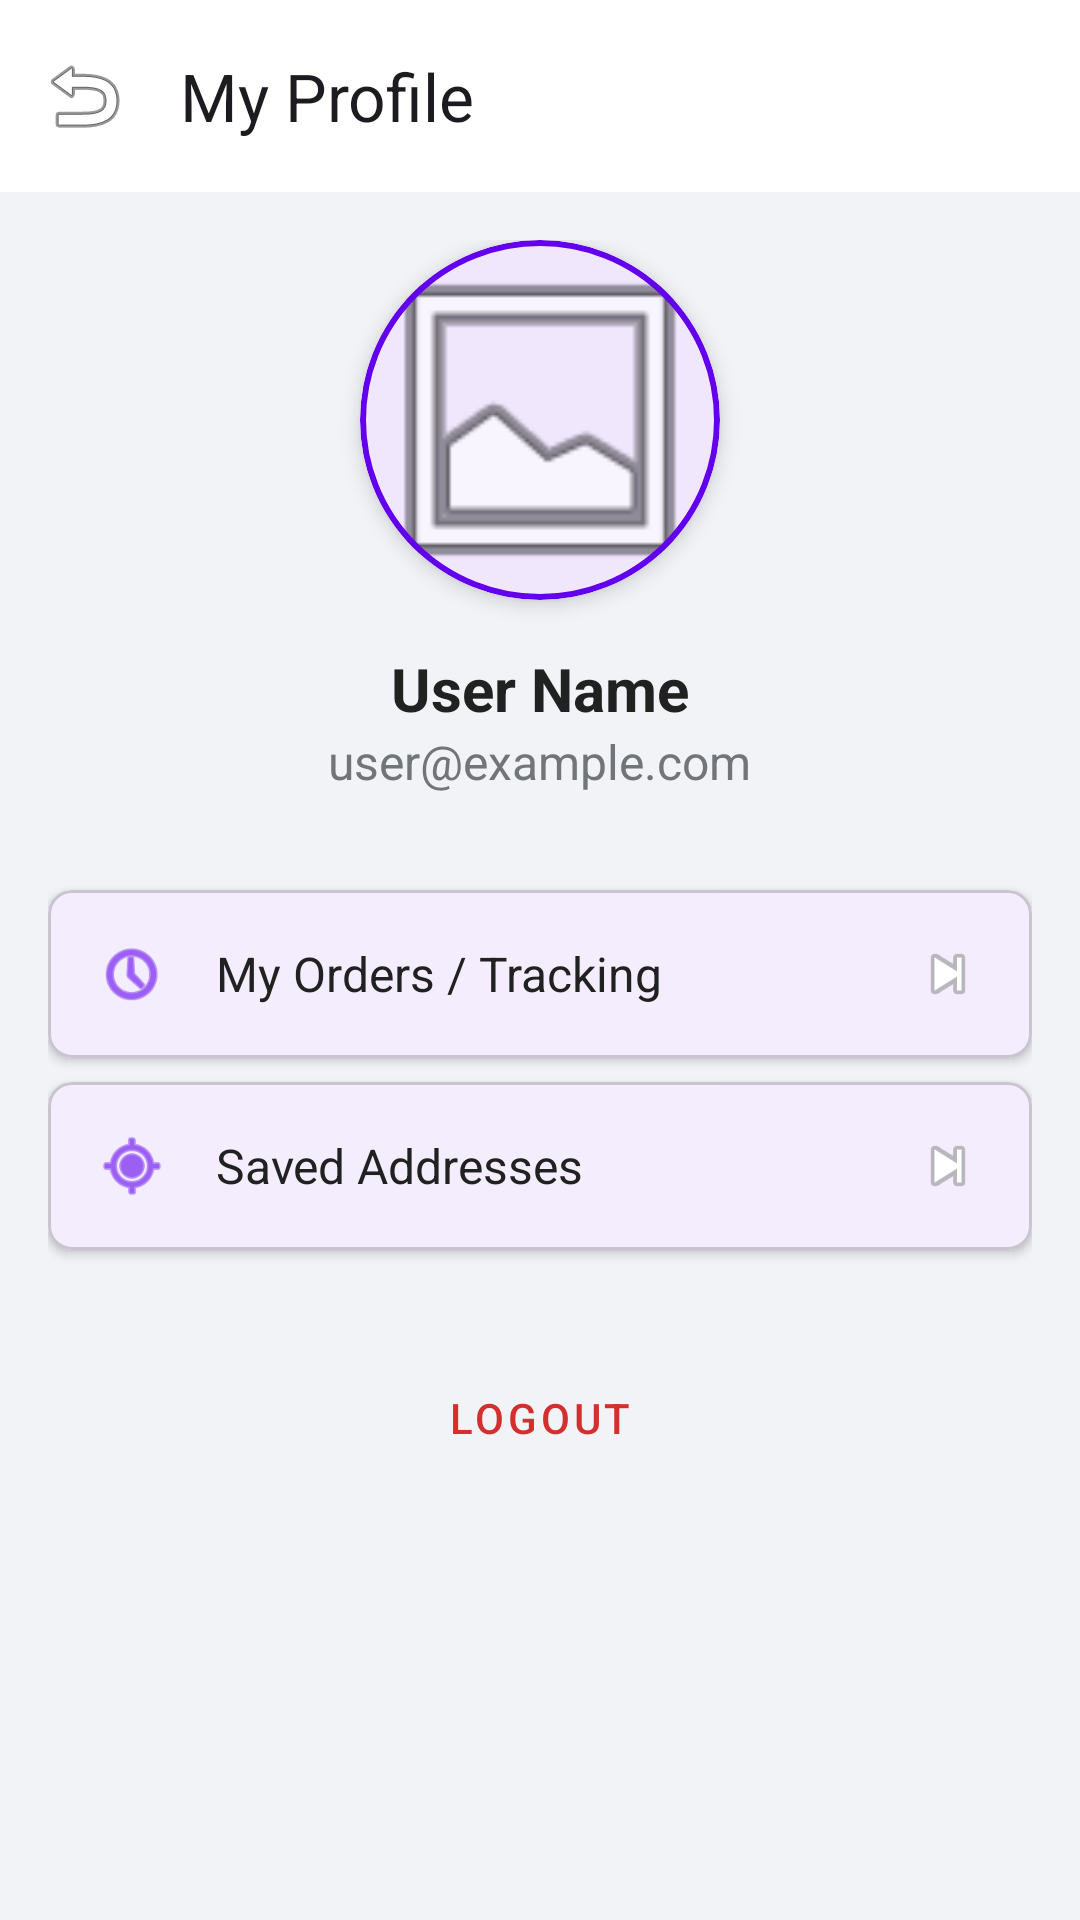

Where to tap for icons on this 1080 × 1920 app screen, as [x,y]:
gallery: [540,420]
mylocation: [132,1166]
next: [948,974], [948,1166]
recent history: [132,974]
